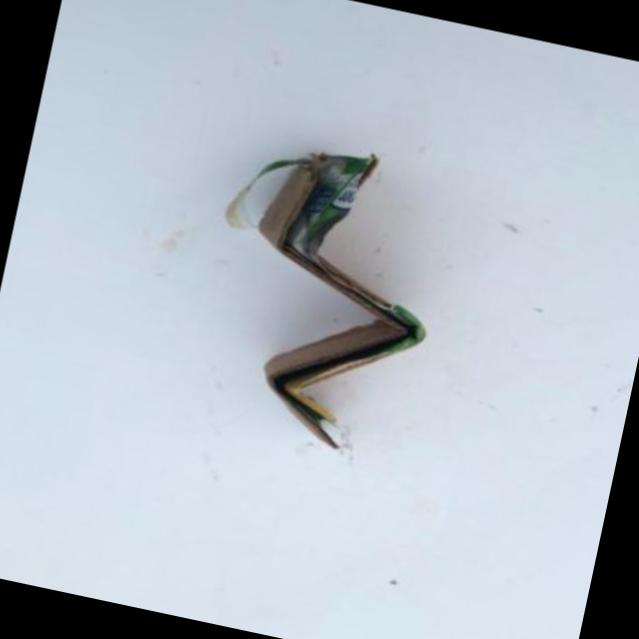cardboard paper: (226, 154, 426, 449)
